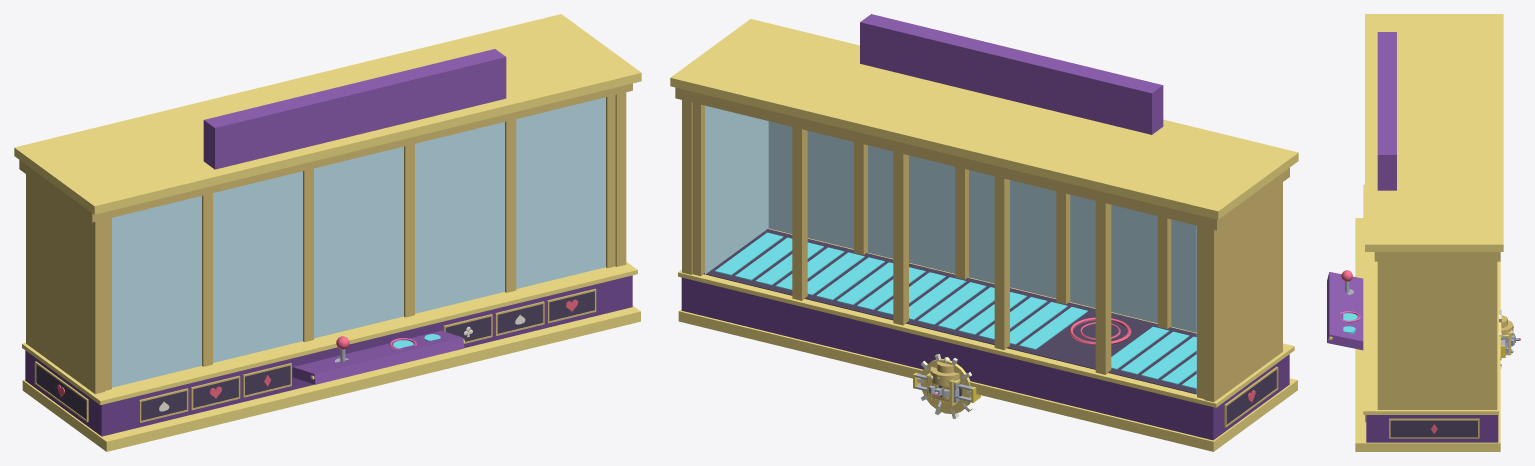
Rendered from claw.glb.
The picture shows the model from 3 angles, left to right: view 1: azimuth 30°, elevation 25°; view 2: azimuth 150°, elevation 25°; view 3: azimuth 270°, elevation 25°; orthographic projection. The views are drawn at different scales.
Parts seen in each view (by area): view 1: glassFront, cornice, frame, baseTrim, marqueeBox, base, basePanels, console, baseFrames; view 2: cornice, frame, glassFront, base, vents, marqueeBox, baseTrim, floorGrate, glassEnds, basePanels, chipBody; view 3: cornice, frame, baseTrim, marqueeBox, console, base, basePanels, baseFrames, clawBody.
Part boxes in pixels (x1,y1,x2,y2): glassFront: (112,97,605,387); cornice: (14,14,641,214); frame: (19,83,632,394); baseTrim: (22,262,640,451); marqueeBox: (203,49,506,169); base: (25,275,632,436); basePanels: (36,291,594,420); console: (292,330,464,384); baseFrames: (34,288,596,422); cornice: (670,19,1298,219); frame: (675,87,1289,402); glassFront: (768,121,1196,332); base: (681,277,1289,440); vents: (715,232,1196,388); marqueeBox: (860,14,1163,134); baseTrim: (678,228,1297,451); floorGrate: (703,229,1196,394); glassEnds: (705,105,1196,394); basePanels: (1226,370,1276,424); chipBody: (920,359,971,413); cornice: (1365,14,1503,251); frame: (1374,252,1500,409); baseTrim: (1355,184,1500,451); marqueeBox: (1377,32,1396,190); console: (1327,272,1363,350); base: (1366,415,1498,442); basePanels: (1390,420,1477,437); baseFrames: (1365,415,1479,438); clawBody: (1501,315,1513,336).
Bounding box in the file's own units: 16.9 × 9.28 × 6.
